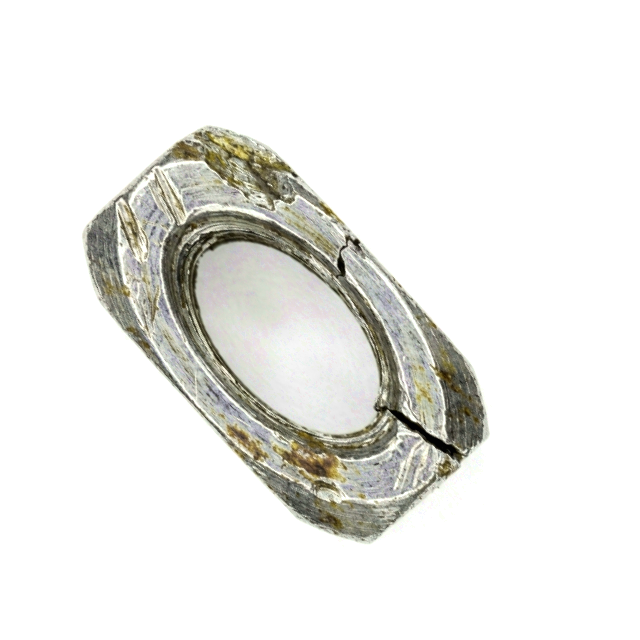defect: (182, 121, 305, 214), (369, 396, 471, 467), (276, 419, 345, 485), (317, 221, 380, 292), (146, 165, 196, 224), (111, 192, 153, 261)
